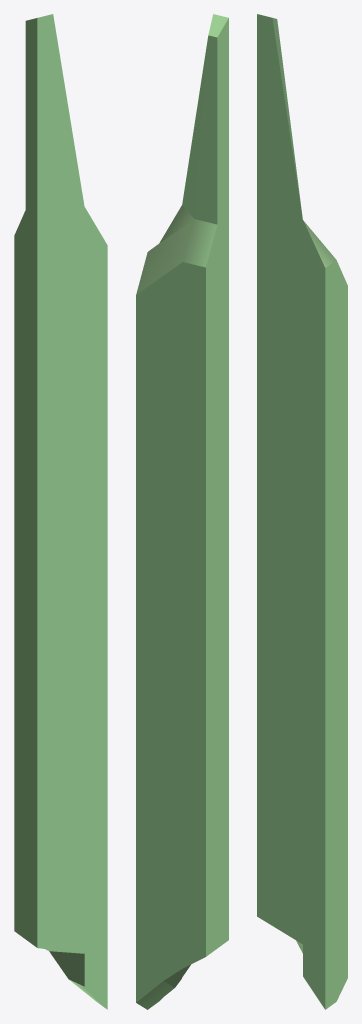
File: CrystalShard.003.glb
The picture shows the model from 3 angles, left to right: view 1: azimuth 30°, elevation 25°; view 2: azimuth 150°, elevation 25°; view 3: azimuth 330°, elevation 25°; orthographic projection. The views are drawn at different scales.
Parts seen in each view (by area): view 1: CrystalShard.003; view 2: CrystalShard.003; view 3: CrystalShard.003.
Boxes of the visible parts, <box> form: CrystalShard.003: <box>14,14,107,1009</box>; CrystalShard.003: <box>136,14,228,1009</box>; CrystalShard.003: <box>257,14,347,1009</box>.
Size of the model in its own units: 141 by 1929 by 80.34.
